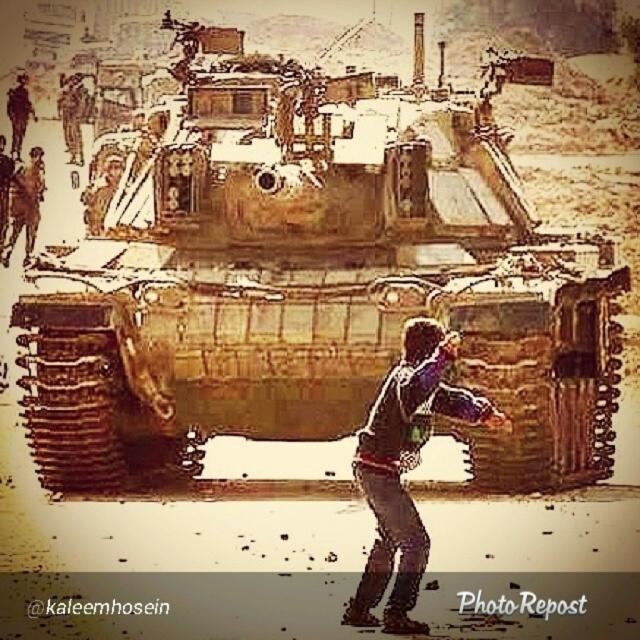tank: (8, 11, 632, 490)
